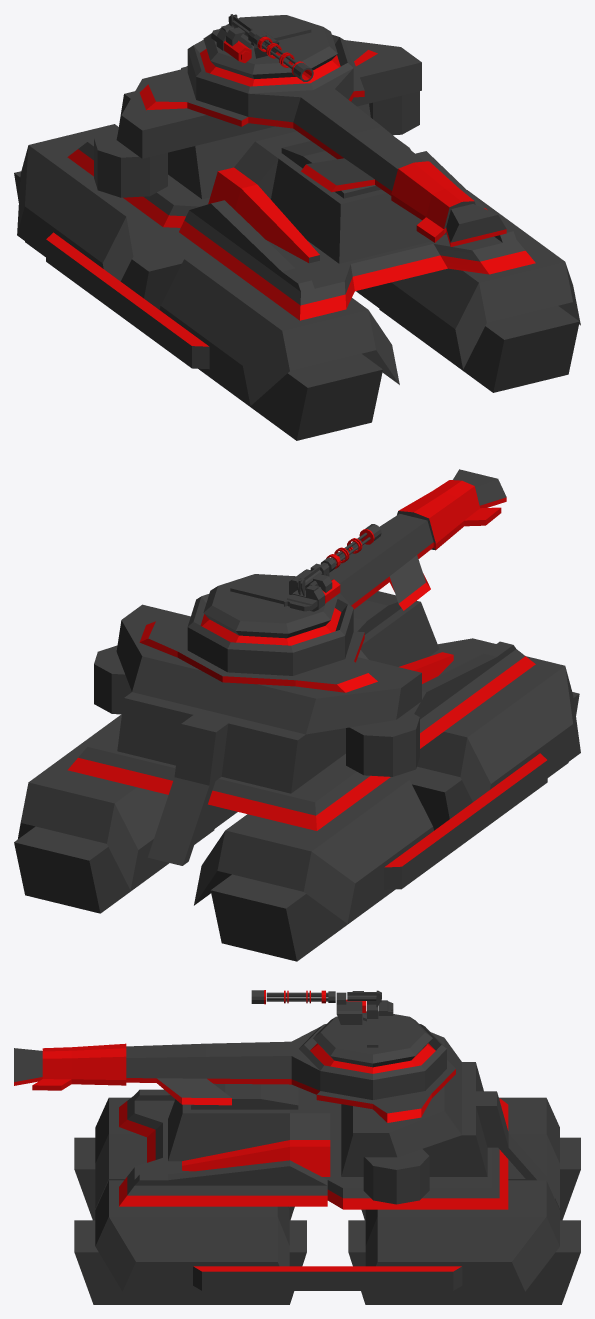
File: drone_miniboss.fbx
The picture shows the model from 3 angles, top to bottom: view 1: azimuth 30°, elevation 25°; view 2: azimuth 150°, elevation 25°; view 3: azimuth 270°, elevation 25°; orthographic projection. The views are drawn at different scales.
Visible parts, largest first — view 1: drone_miniboss; view 2: drone_miniboss; view 3: drone_miniboss.
Boxes of the visible parts, x1=… form: drone_miniboss: x1=14, y1=14, x2=580, y2=440; drone_miniboss: x1=14, y1=469, x2=580, y2=961; drone_miniboss: x1=14, y1=990, x2=580, y2=1304.
Bounding box in the file's own units: 3.21 × 2.42 × 5.13.
